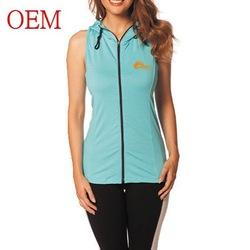C_W_pants: (79, 180, 173, 249)
C_vest: (77, 16, 176, 187)
